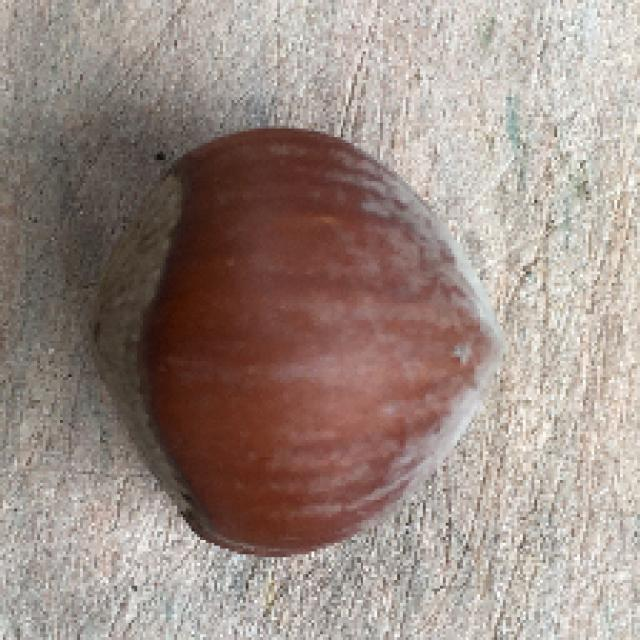qualityHazelnut: (79, 124, 511, 559)
